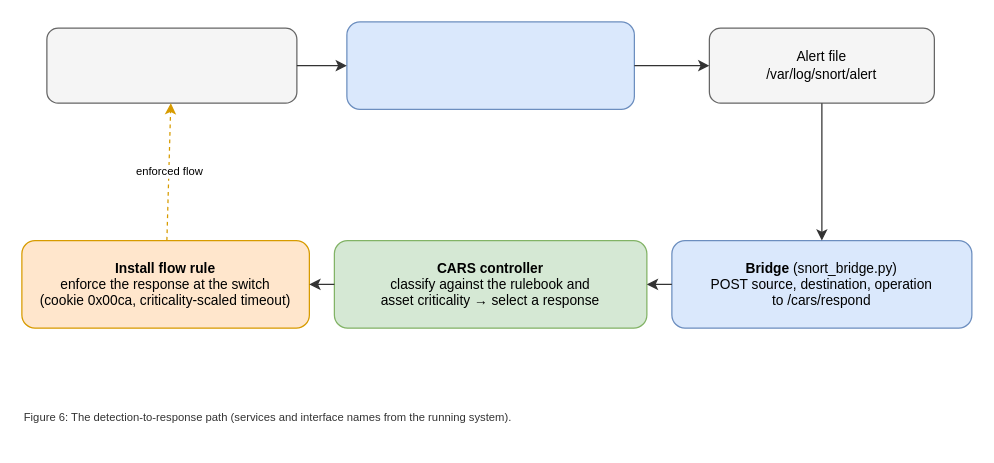
Some shapes in this 994 by 463 pixel diagram are drawn without their labels. Here are the shapes that lost their labels. From the top down, the centre of each, then its label:
(x=171, y=65): Mirrored packet (ovsgw SPAN mirror → snort0)
(x=490, y=65): Snort DPI match the protocol function field (S7comm / Modbus) → operation
